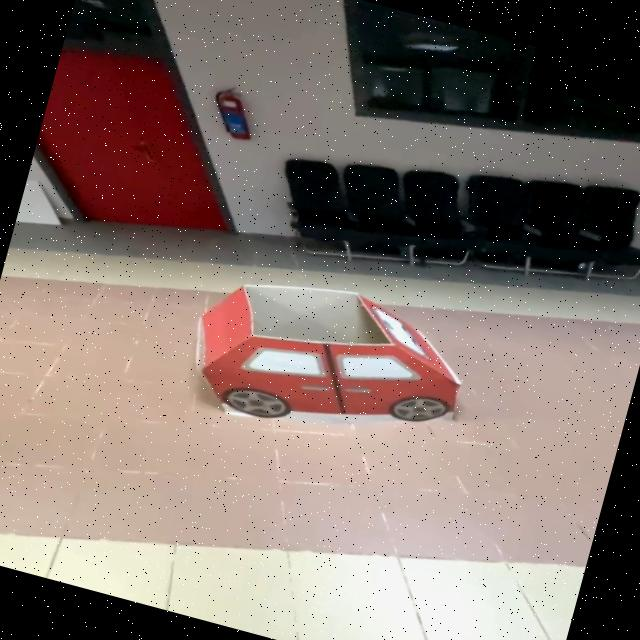red_car: (135, 231, 522, 491)
